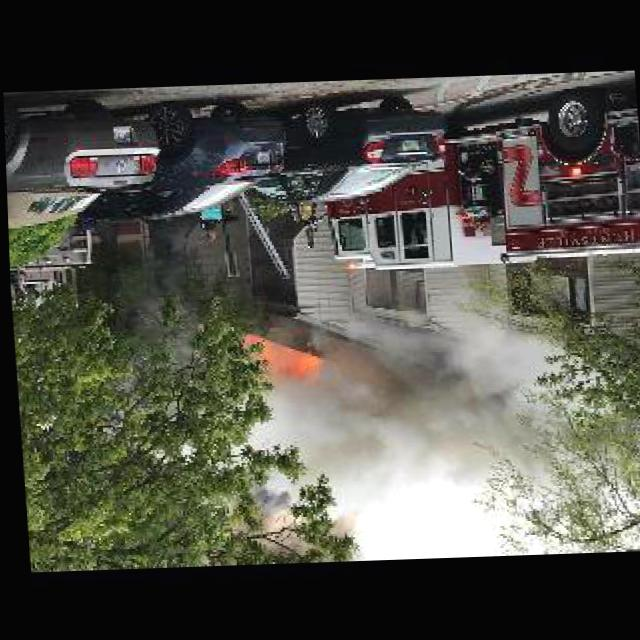Fire: (236, 330, 322, 386)
Smoke: (275, 313, 552, 512)
